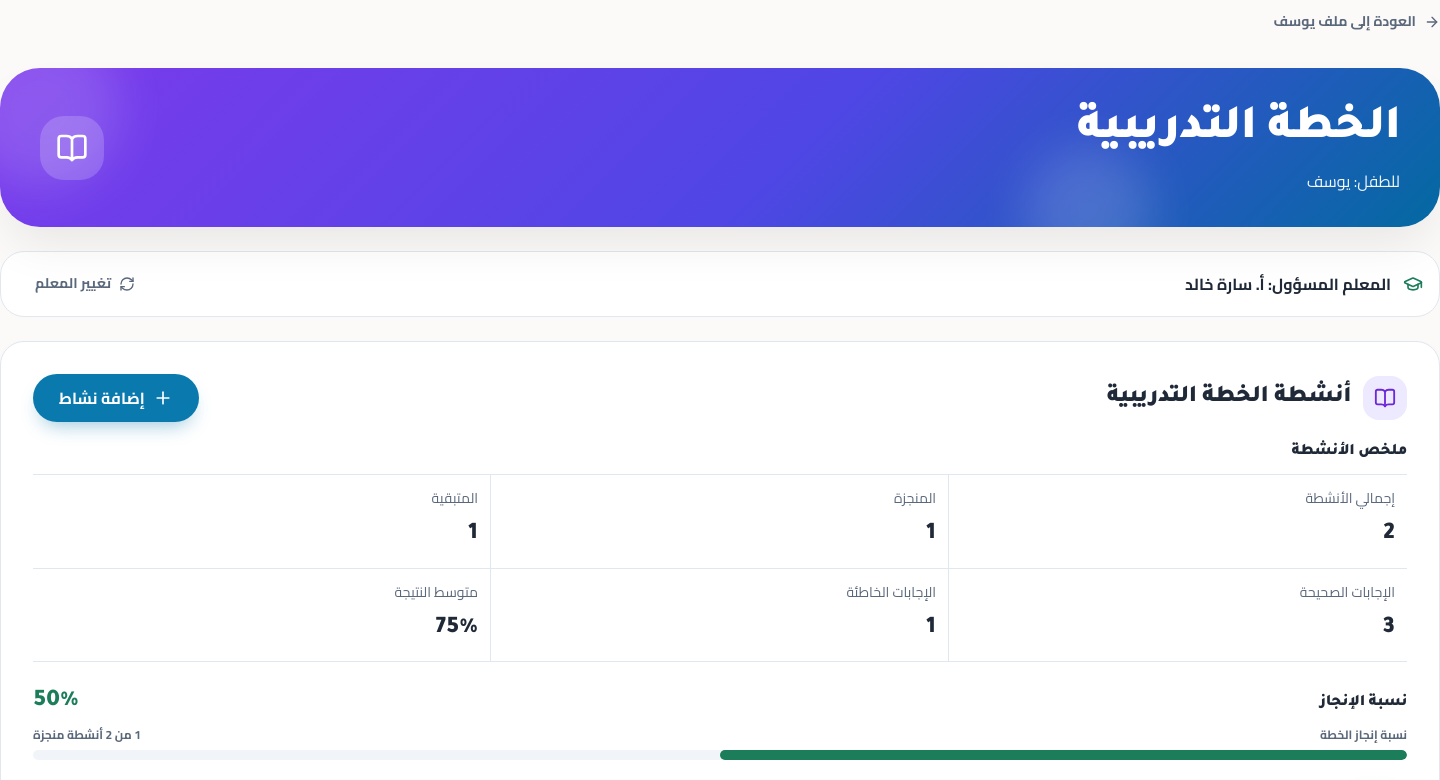
Test: ChildPlansPage — specialist › shows the game template and assigns the real game activity (no duplicate)
Click the button "إضافة نشاط" at [116, 398], box x1=33 y1=374 x2=199 y2=422
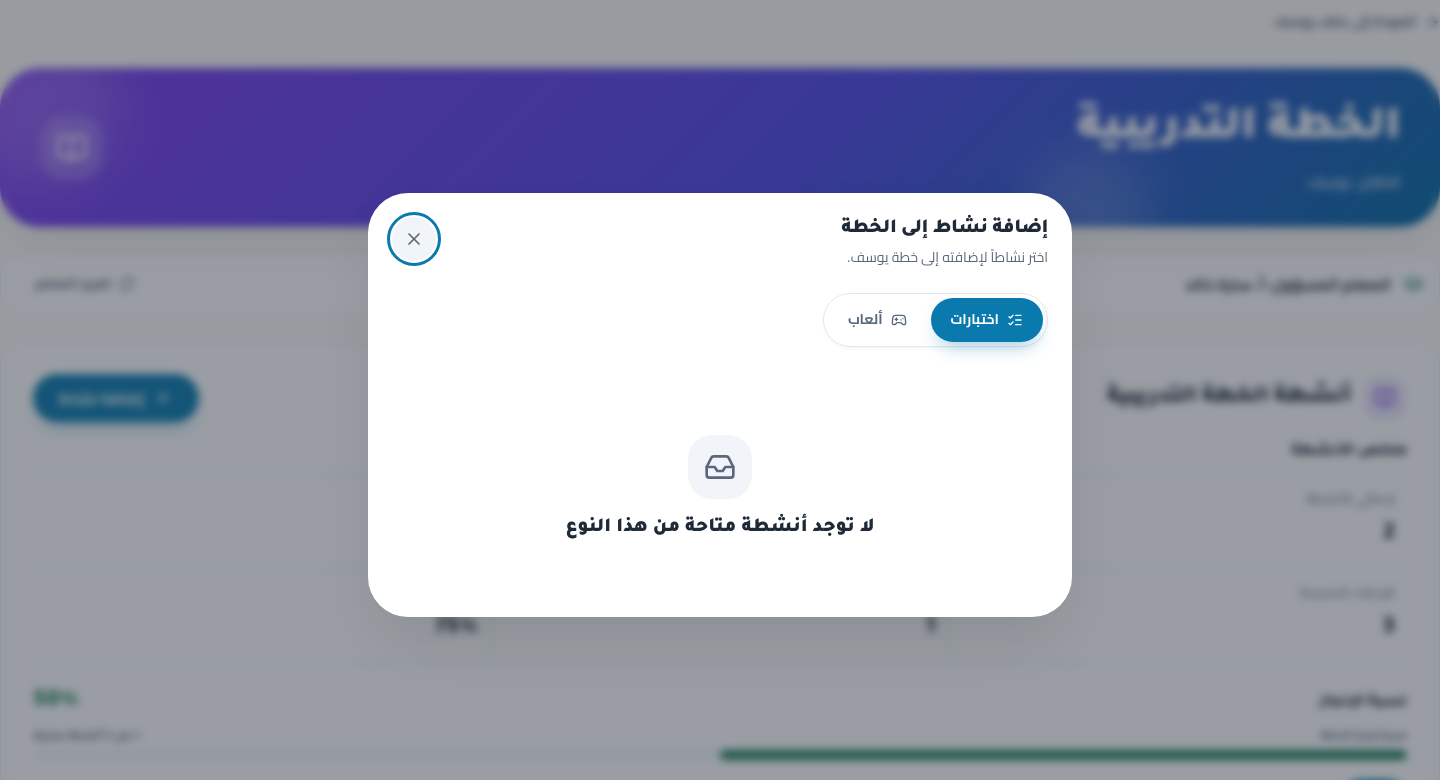
Click the tab "ألعاب" at [877, 320], box x1=828 y1=298 x2=926 y2=342
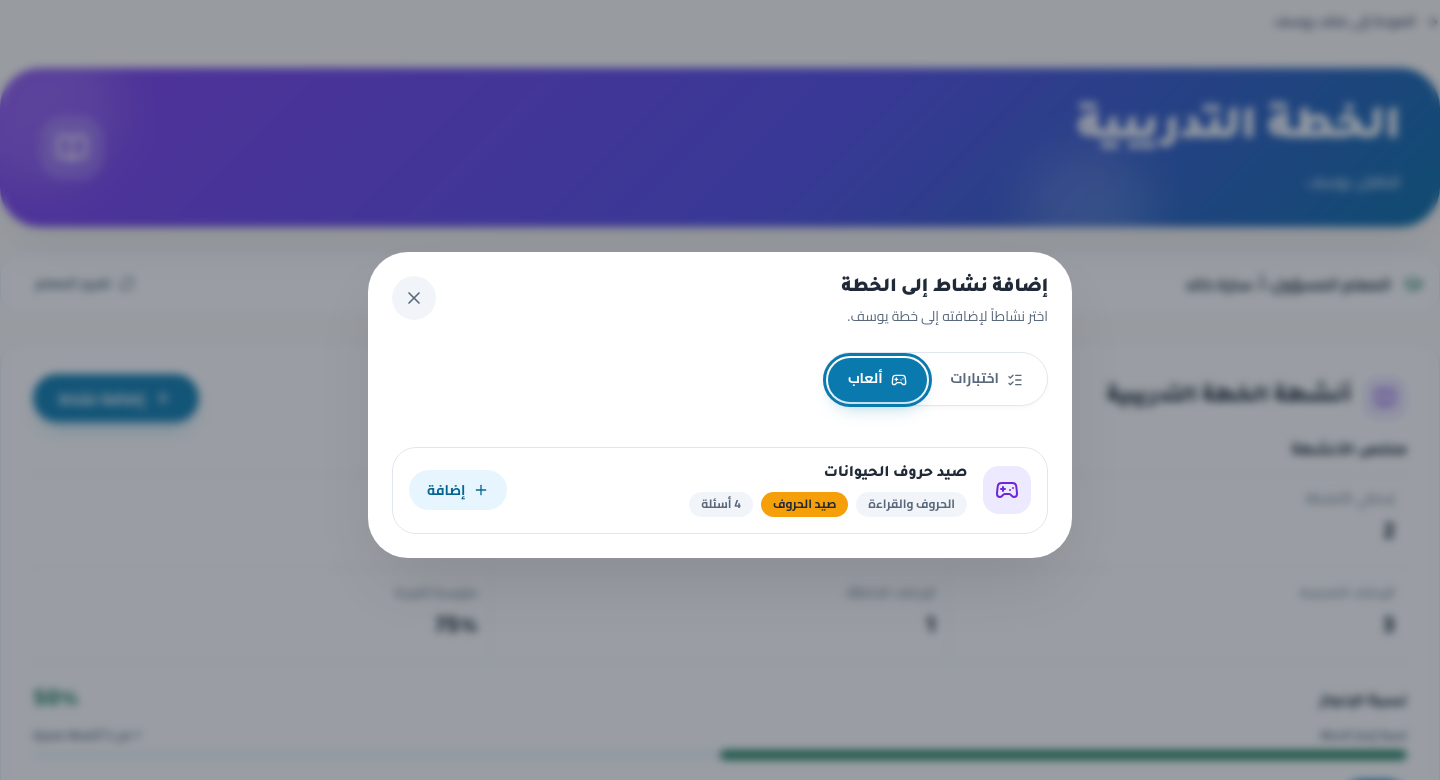
Expected: the text "صيد الحروف" is shown, x1=761 y1=492 x2=848 y2=517
Click the button with aria-label "إضافة «صيد حروف الحيوانات» إلى الخطة" at [458, 490], box x1=409 y1=470 x2=507 y2=510
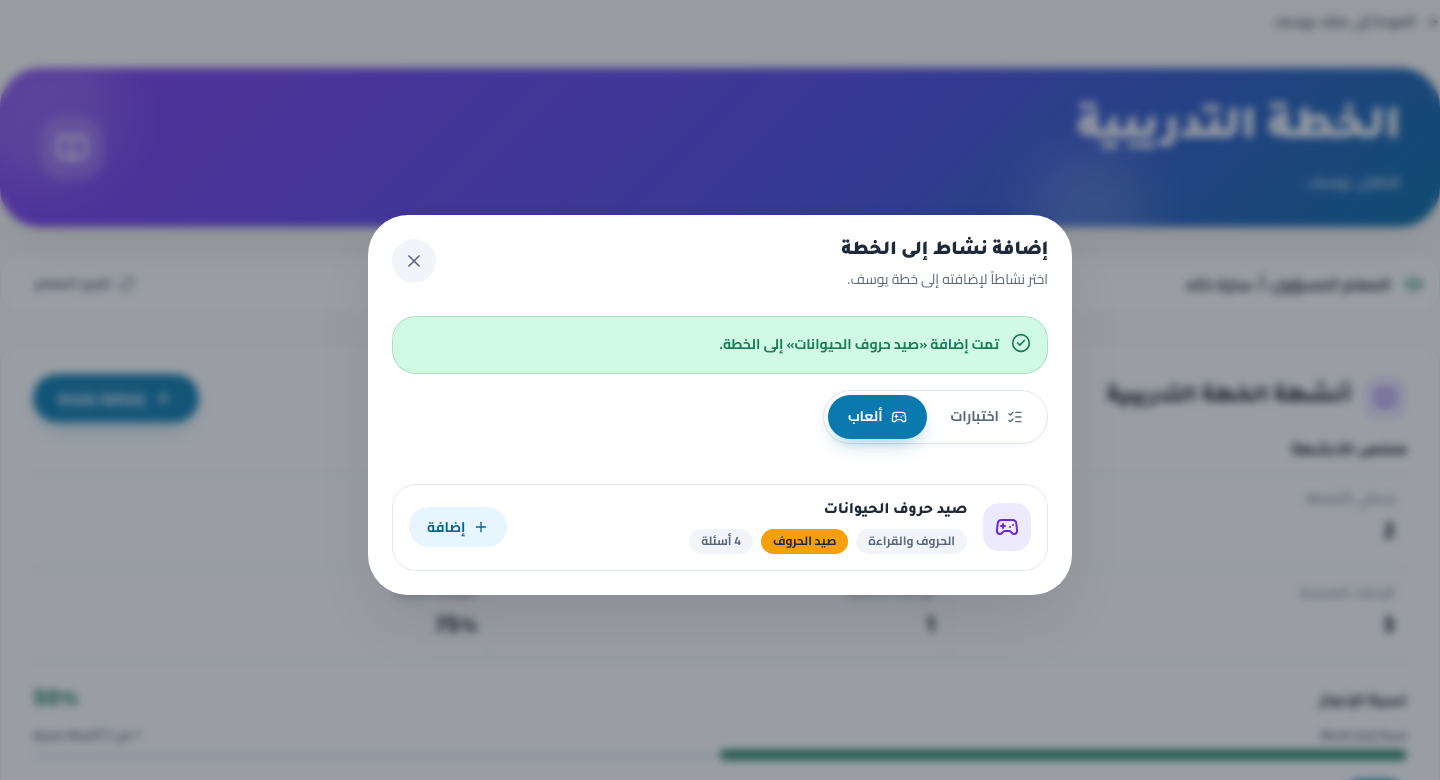
Expected: the text "تمت إضافة «صيد حروف الحيوانات» إلى الخطة." is shown, x1=720 y1=333 x2=999 y2=357
